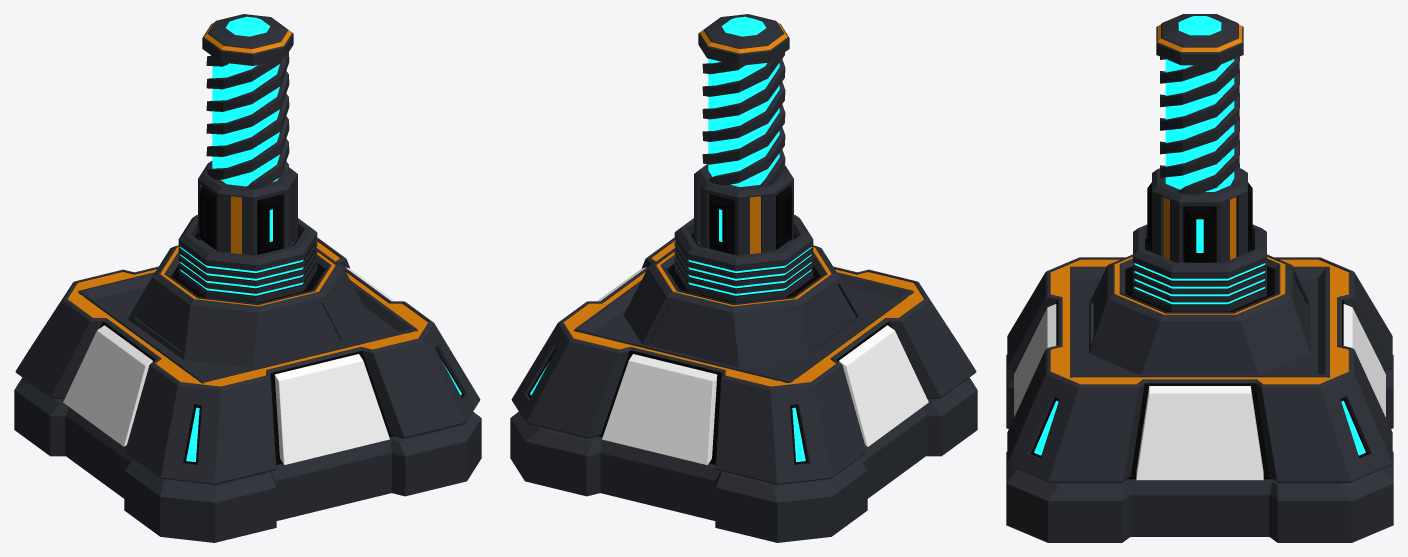
The model's file is SM_Turret_ArcEmitter.fbx.
3 renders of one model, left to right at view 1: azimuth 30°, elevation 25°; view 2: azimuth 150°, elevation 25°; view 3: azimuth 270°, elevation 25°, orthographic. The views are drawn at different scales.
Parts seen in each view (by area): view 1: SM_Turret_ArcEmitter; view 2: SM_Turret_ArcEmitter; view 3: SM_Turret_ArcEmitter.
Part boxes in pixels (x1,y1,x2,y2): SM_Turret_ArcEmitter: [14, 14, 481, 542]; SM_Turret_ArcEmitter: [510, 14, 977, 542]; SM_Turret_ArcEmitter: [1006, 14, 1393, 542].
Size of the model in its own units: 100 by 125 by 100.
